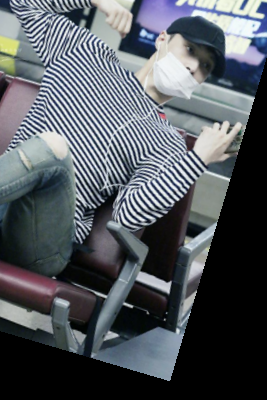mask_weared_incorrect: (146, 8, 234, 107)
